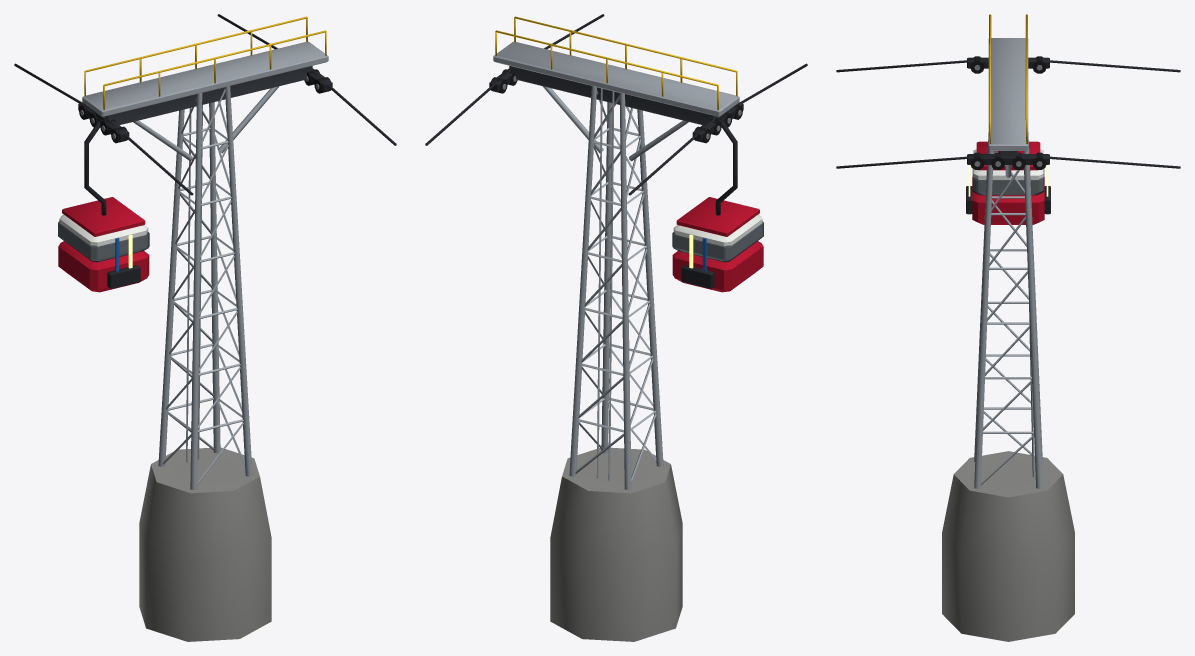
Rendered from lmf_ski_gondola_pylon.glb.
3 renders of one model, left to right at view 1: azimuth 30°, elevation 25°; view 2: azimuth 150°, elevation 25°; view 3: azimuth 270°, elevation 25°, orthographic. The views are drawn at different scales.
Parts seen in each view (by area): view 1: body, gondola_cabin; view 2: body, gondola_cabin; view 3: body, gondola_cabin.
Boxes of the visible parts, x1=… form: body: x1=14, y1=14, x2=396, y2=641; gondola_cabin: x1=58, y1=112, x2=149, y2=292; body: x1=425, y1=14, x2=807, y2=641; gondola_cabin: x1=672, y1=112, x2=763, y2=292; body: x1=836, y1=14, x2=1180, y2=641; gondola_cabin: x1=966, y1=141, x2=1050, y2=224.
Size of the model in its own units: 9.28 by 20.39 by 11.64.
